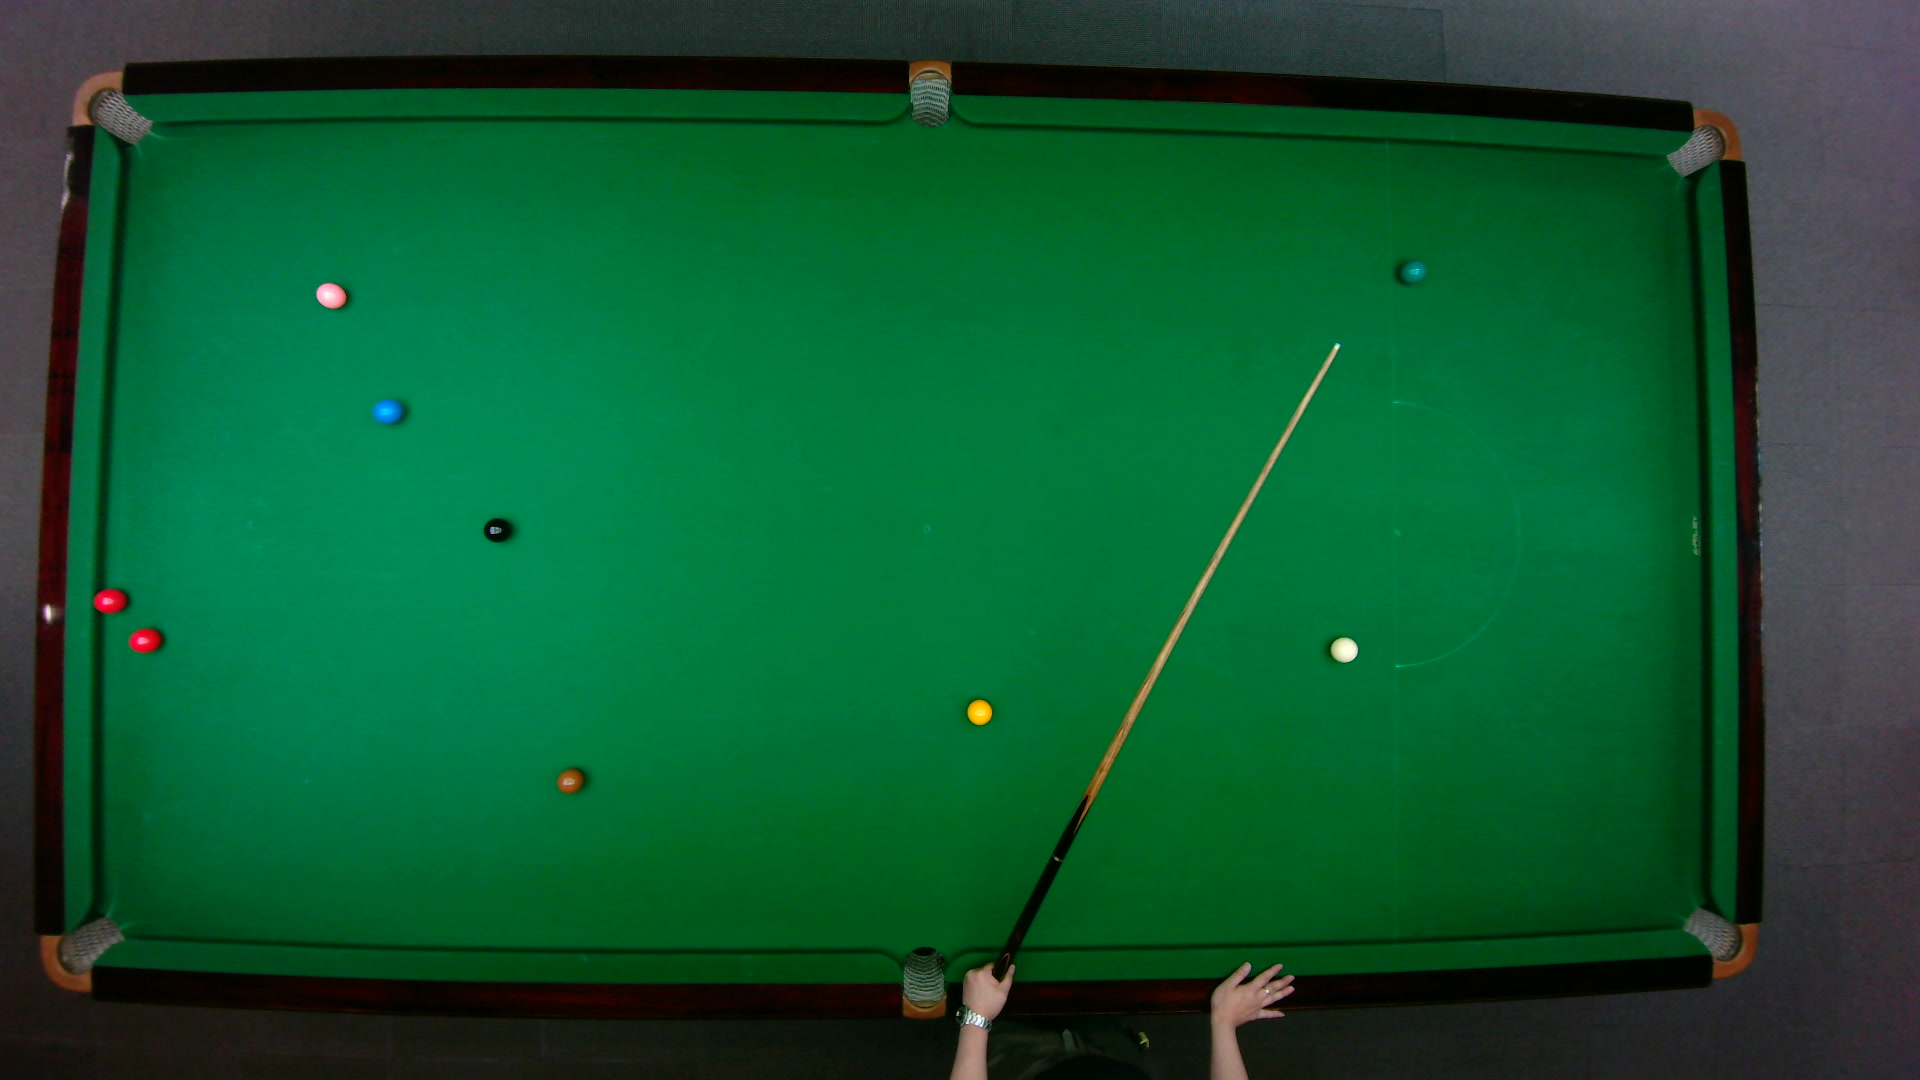bag: (38, 914, 125, 992), (69, 69, 152, 145), (1679, 905, 1756, 978), (1663, 108, 1741, 177), (901, 944, 944, 1021), (909, 57, 949, 128)
black: (481, 516, 510, 542)
blue: (371, 396, 404, 425)
brown: (555, 766, 584, 794)
cue: (948, 340, 1348, 1065)
green: (1396, 257, 1425, 284)
pink: (313, 280, 347, 309)
red: (91, 585, 128, 613), (127, 625, 162, 653)
white: (1328, 636, 1360, 663)
yellow: (964, 696, 993, 727)
zone: (1390, 400, 1520, 669)
